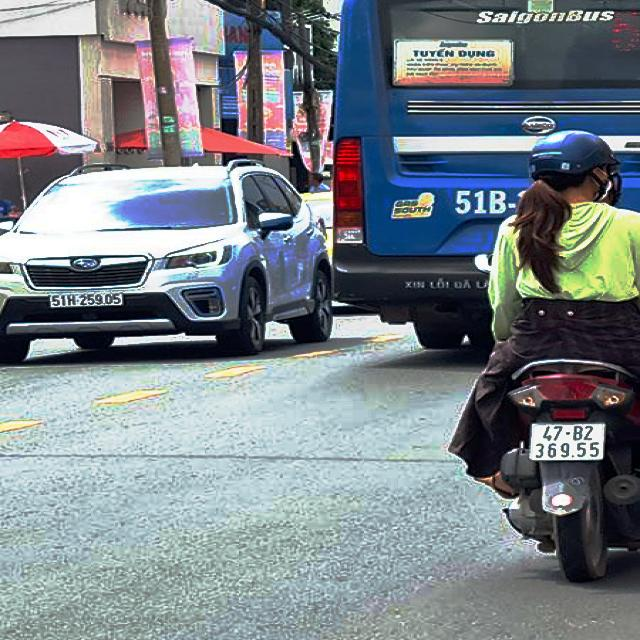license_plate: (532, 424, 610, 464), (49, 292, 124, 310)
